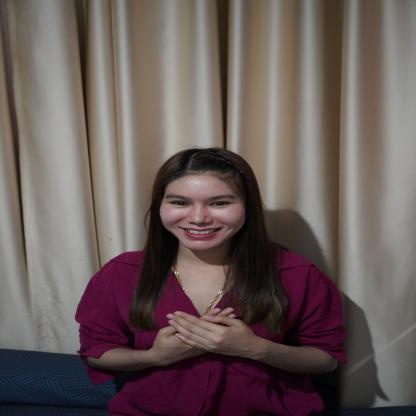Grieve: (133, 303, 270, 372)
